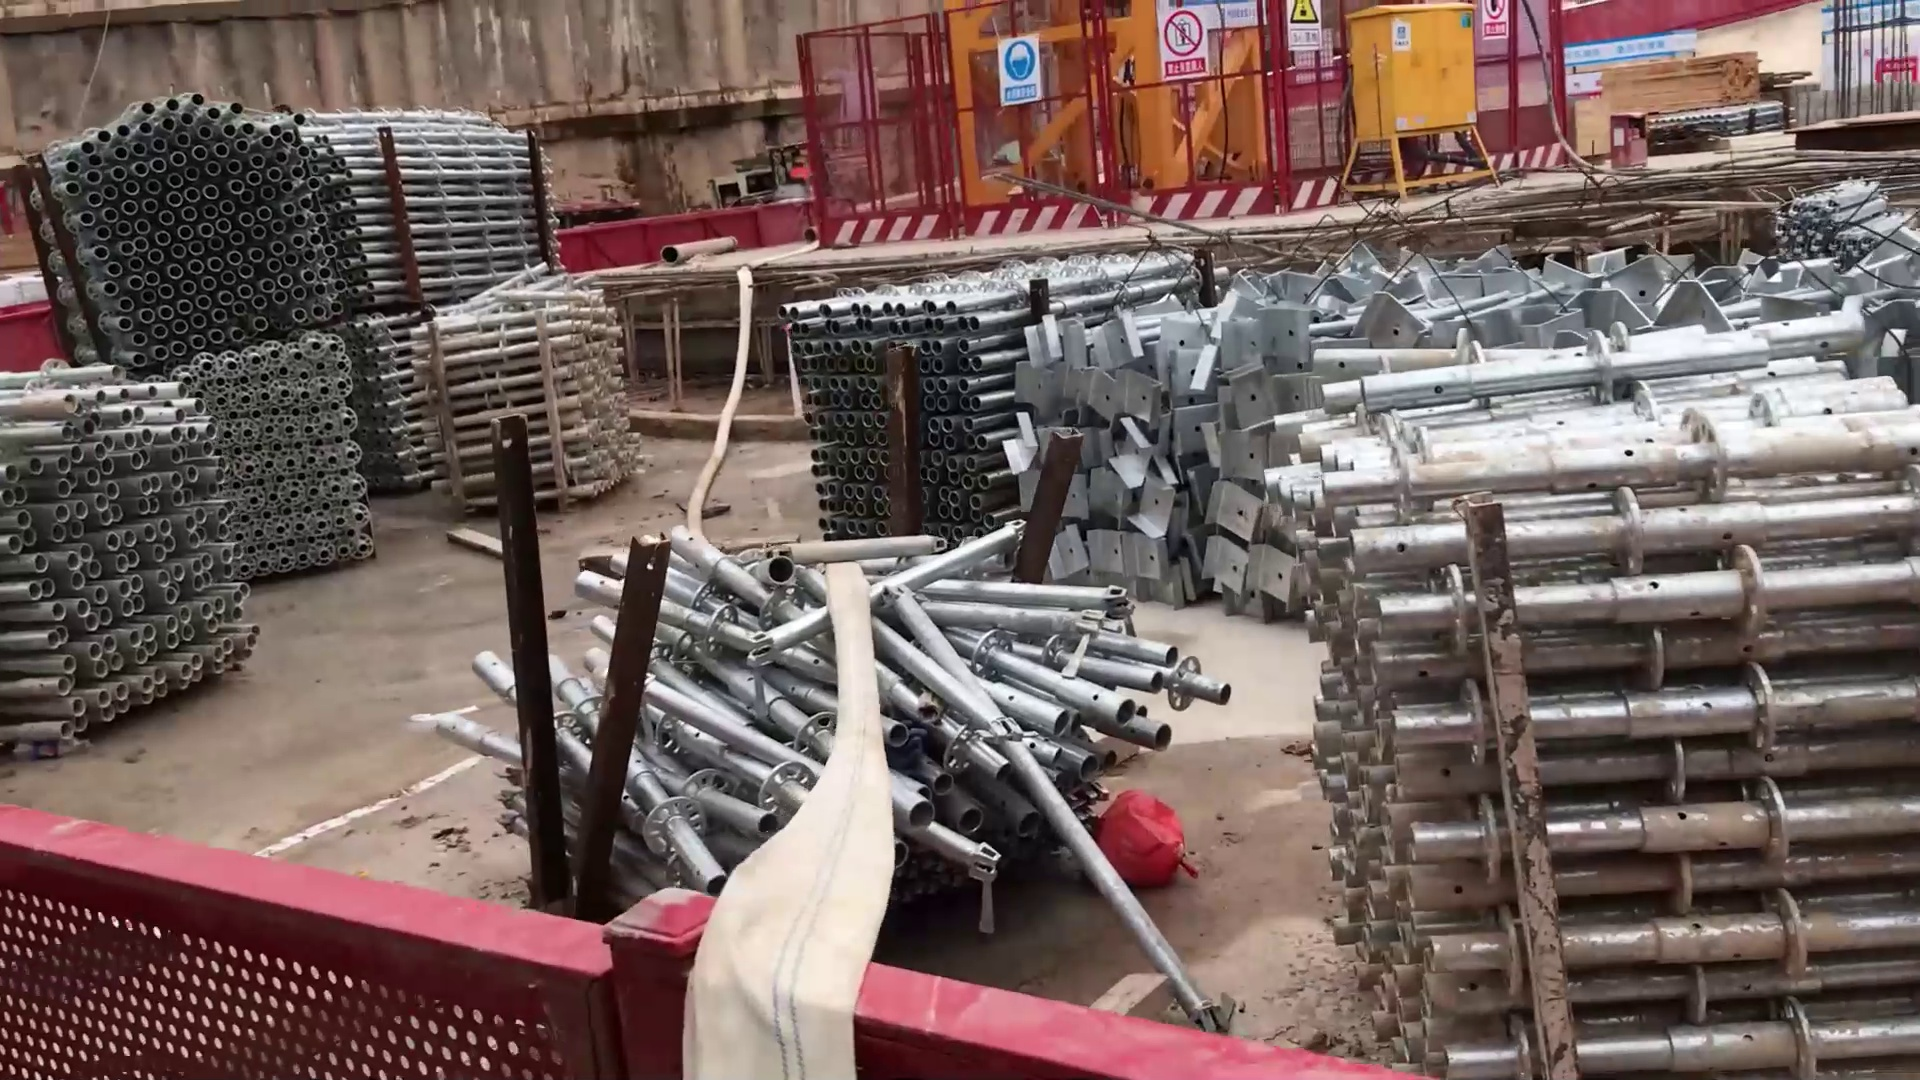ebox: (1333, 1, 1501, 208)
fence: (17, 804, 659, 1080), (795, 13, 972, 243)
scaffold: (1302, 378, 1913, 1080), (477, 512, 1166, 923), (789, 268, 1300, 630), (51, 98, 563, 335), (1, 360, 269, 756), (396, 262, 638, 513)
slogan: (1553, 32, 1717, 70), (993, 29, 1048, 115), (1162, 8, 1211, 86), (1280, 4, 1328, 55), (1476, 1, 1518, 55)
wood: (1601, 50, 1772, 113)
